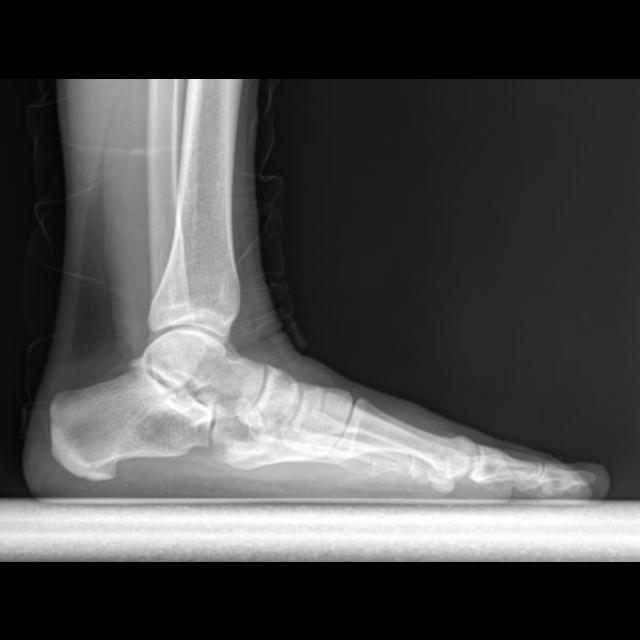a: (50, 359, 211, 479)
b: (239, 363, 299, 429)
c: (329, 397, 477, 491)
